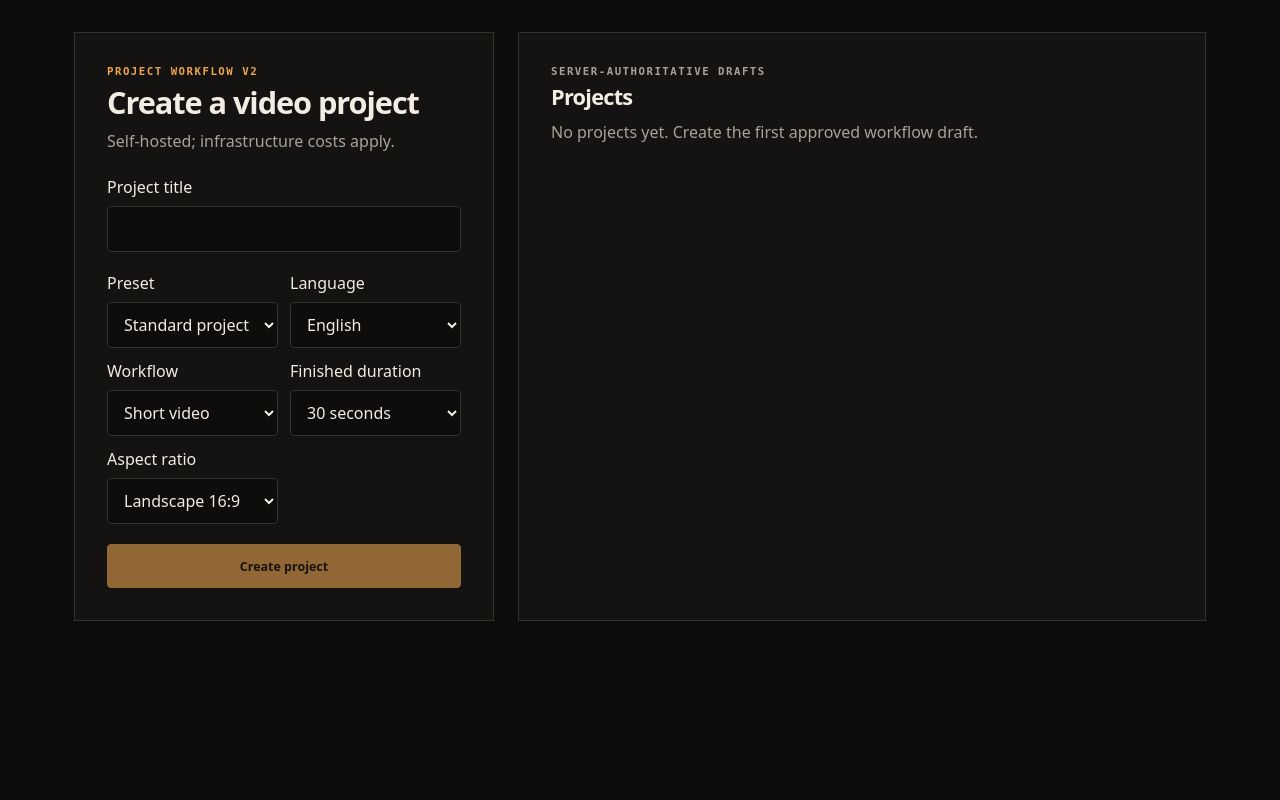
it: ProjectsView › creates a server-authoritative project with the selected workflow settings
The width and height of the screenshot is (1280, 800).
In the field labelled "Project title": (284,229) 107,206 -> 461,252, type "Customer and mechanic"
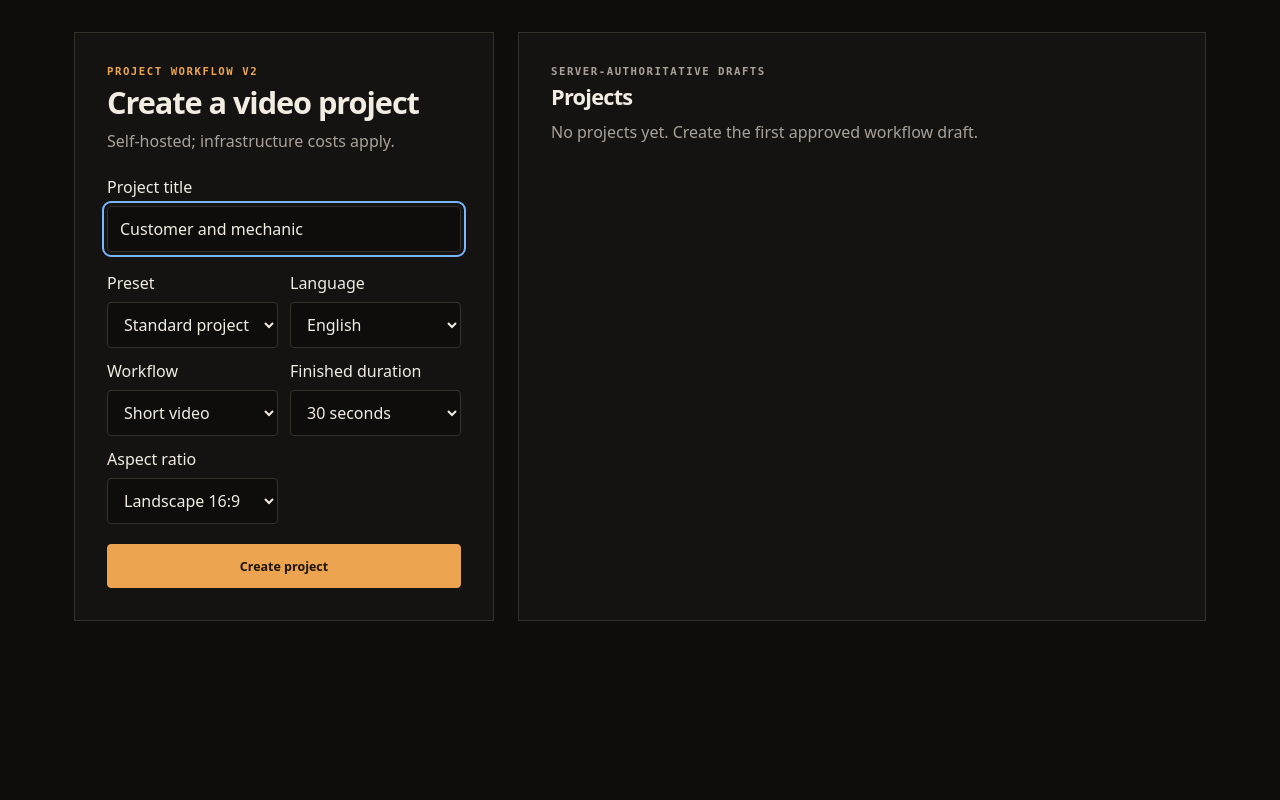
Select "Telugu" in the dropdown labelled "Language": (376,325) 290,302 -> 461,348
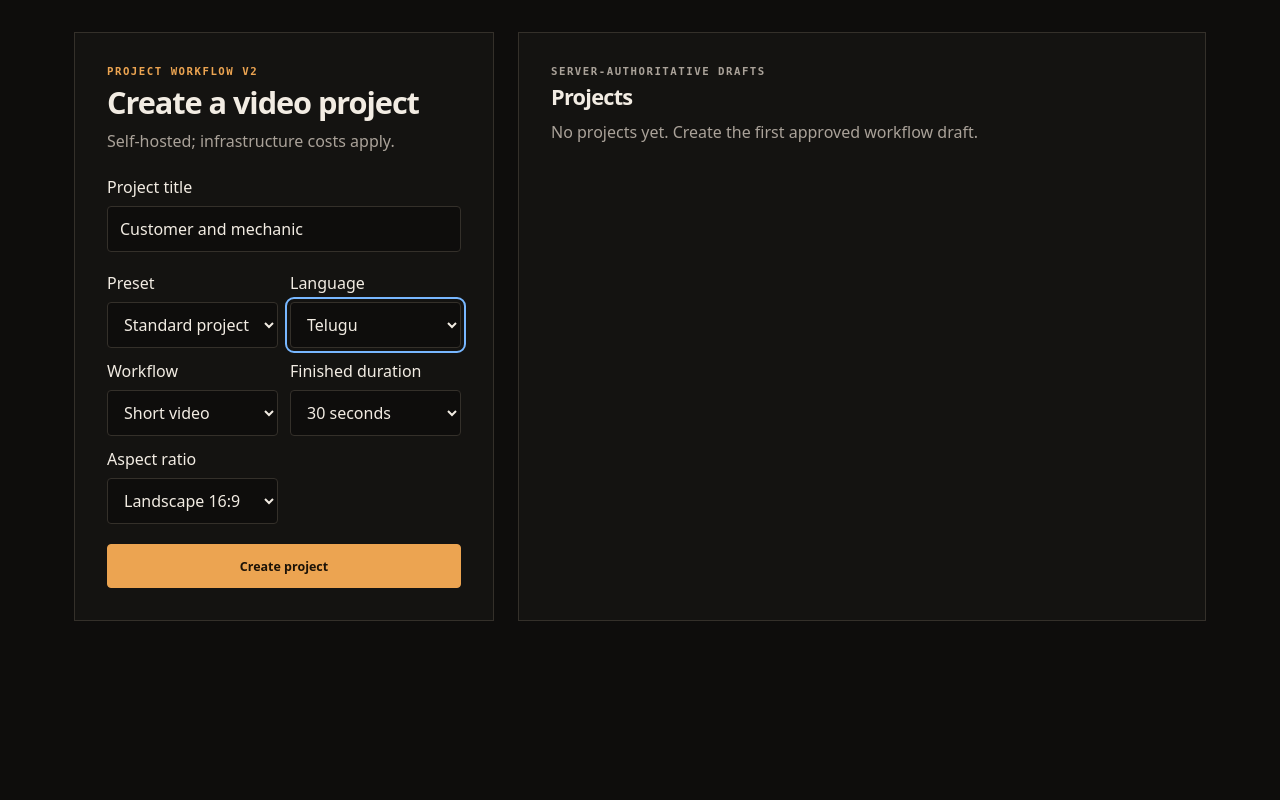
Click the button "Create project": (284,566) 107,544 -> 461,588
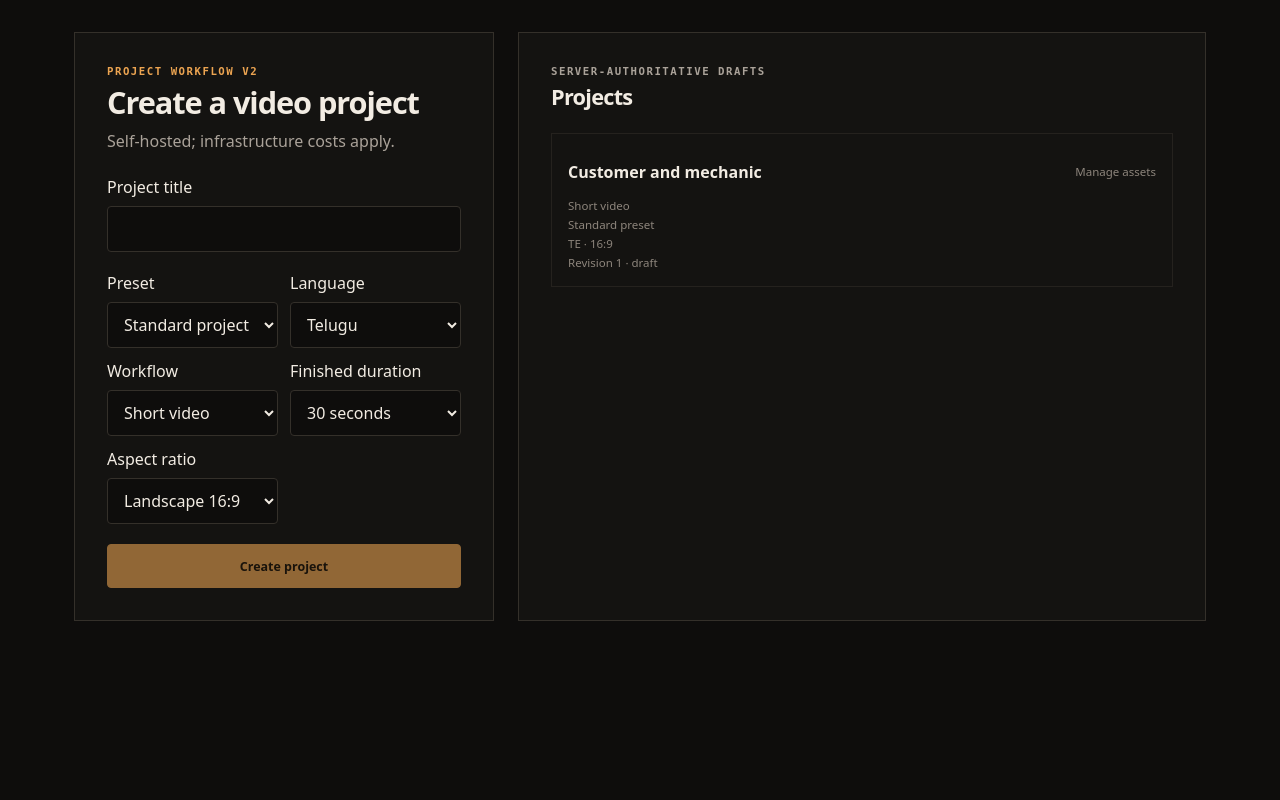
Expected: the text "Self-hosted; infrastructure costs apply." is shown, 107,130 -> 395,152
Result: the text "Customer and mechanic" is shown at 568,161 -> 762,183
